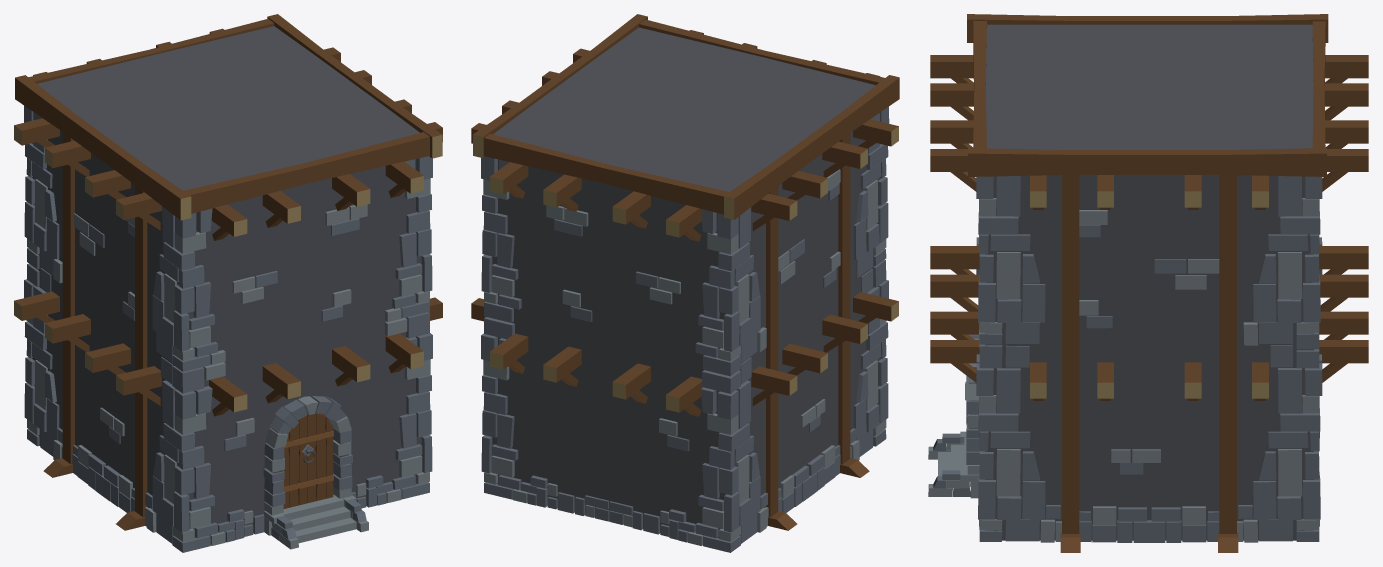
The model's file is v_house_3.glb.
3 views of the same model, side by side, from view 1: azimuth 30°, elevation 25°; view 2: azimuth 150°, elevation 25°; view 3: azimuth 270°, elevation 25° (orthographic). The views are drawn at different scales.
Visible parts, largest first — view 1: House_3; view 2: House_3; view 3: House_3.
Part boxes in pixels (x1,y1,x2,y2): House_3: (14, 14, 442, 552); House_3: (471, 14, 899, 552); House_3: (928, 14, 1368, 552).
Size of the model in its own units: 1.94 by 2.09 by 2.12.
